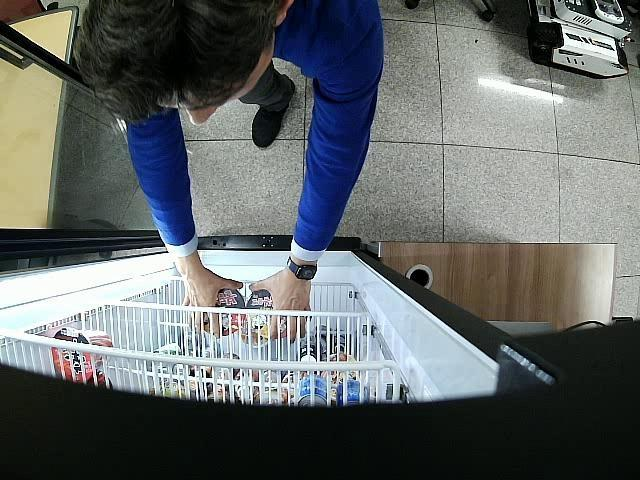07_buldak_L: (204, 289, 246, 336), (245, 289, 273, 347)
